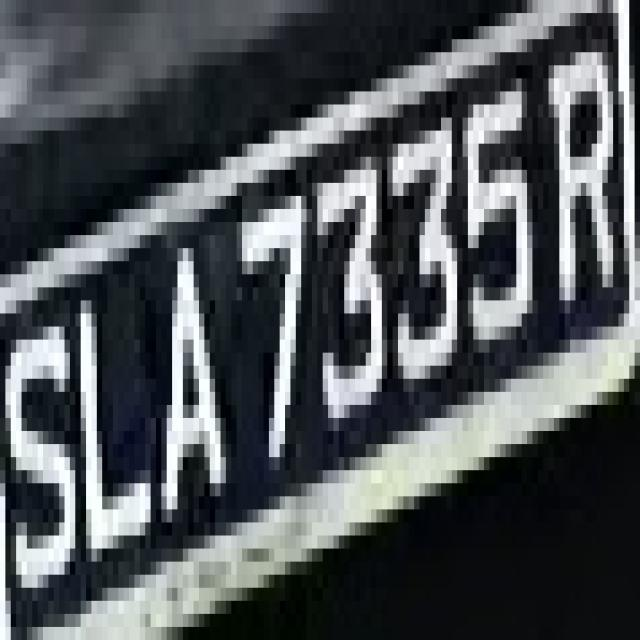3: (366, 78, 457, 405), (301, 144, 398, 444)
5: (452, 52, 532, 366)
7: (237, 144, 317, 470)
A: (140, 222, 226, 575)
L: (70, 248, 156, 562)
R: (538, 0, 634, 366)
S: (0, 274, 81, 614)
